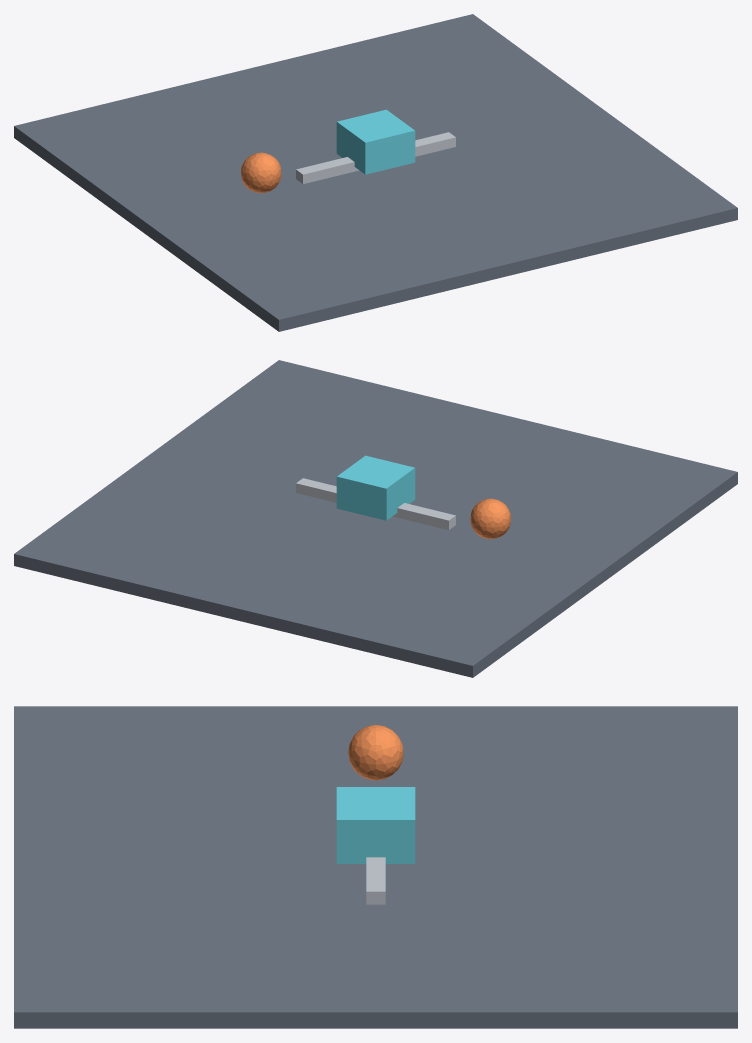
File: ConstraintSlider.glb
The picture shows the model from 3 angles, top to bottom: view 1: azimuth 30°, elevation 25°; view 2: azimuth 150°, elevation 25°; view 3: azimuth 270°, elevation 25°; orthographic projection. The views are drawn at different scales.
Visible parts, largest first — view 1: Ground.001, SliderBlock.001, SliderRail.001, SliderSphere.001; view 2: Ground.001, SliderBlock.001, SliderRail.001, SliderSphere.001; view 3: Ground.001, SliderBlock.001, SliderSphere.001, SliderRail.001.
Boxes of the visible parts, box(x1,y1,x2,y2) form: Ground.001: box(14, 14, 737, 331); SliderBlock.001: box(336, 109, 415, 174); SliderRail.001: box(296, 132, 455, 183); SliderSphere.001: box(241, 152, 281, 192); Ground.001: box(14, 360, 737, 677); SliderBlock.001: box(336, 455, 415, 520); SliderRail.001: box(296, 478, 455, 529); SliderSphere.001: box(470, 498, 510, 538); Ground.001: box(14, 706, 737, 1028); SliderBlock.001: box(336, 787, 415, 863); SliderSphere.001: box(348, 725, 403, 780); SliderRail.001: box(366, 857, 385, 904).
Size of the model in its own units: 12 by 1.32 by 12.
